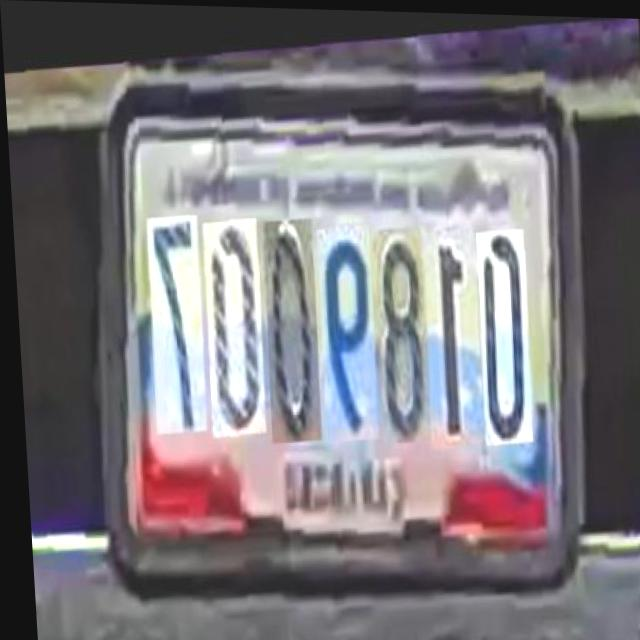0: (200, 202, 266, 422), (473, 220, 533, 438)
1: (418, 219, 483, 439)
7: (143, 196, 206, 418)
8: (370, 216, 430, 434)
9: (312, 212, 377, 432)
o: (257, 204, 320, 430)
